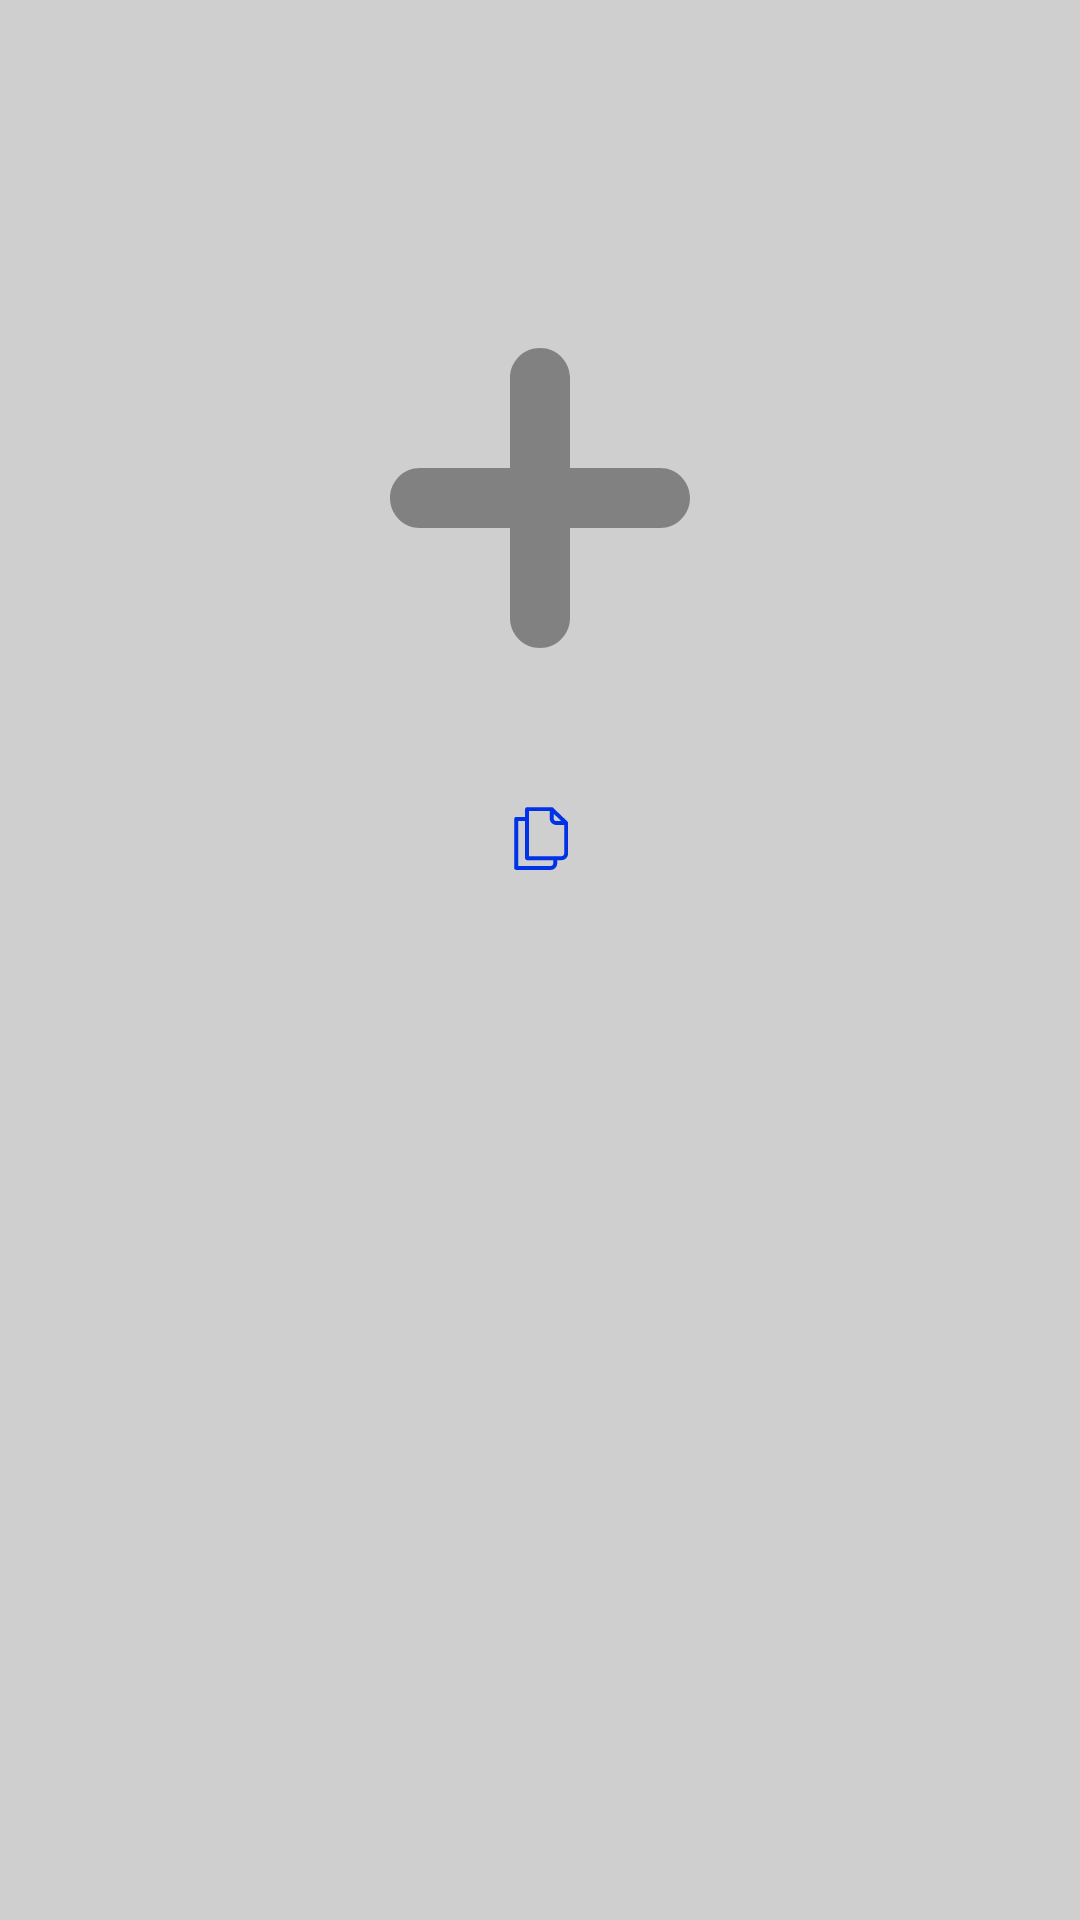

Icon bounding boxes for this 1080x1920 phone screenshot, format [left=x1, top=y1, right=x2, bottom=y2]:
add: [left=390, top=348, right=690, bottom=648]
